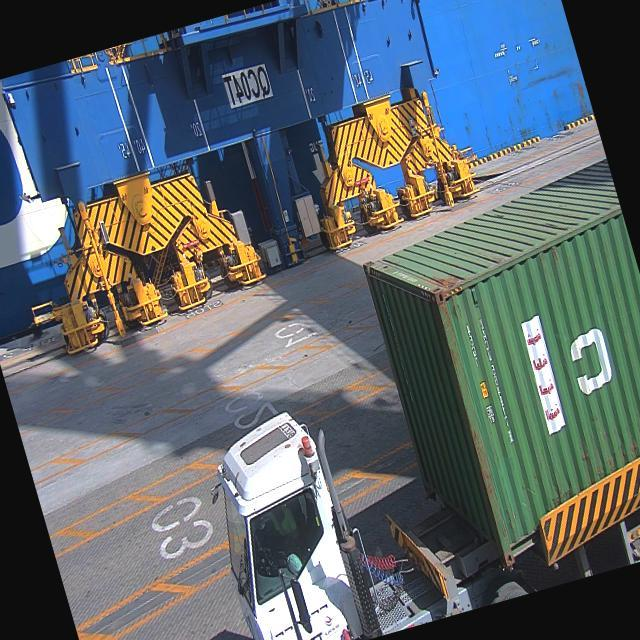rust: (457, 419, 502, 515), (419, 260, 475, 333)
